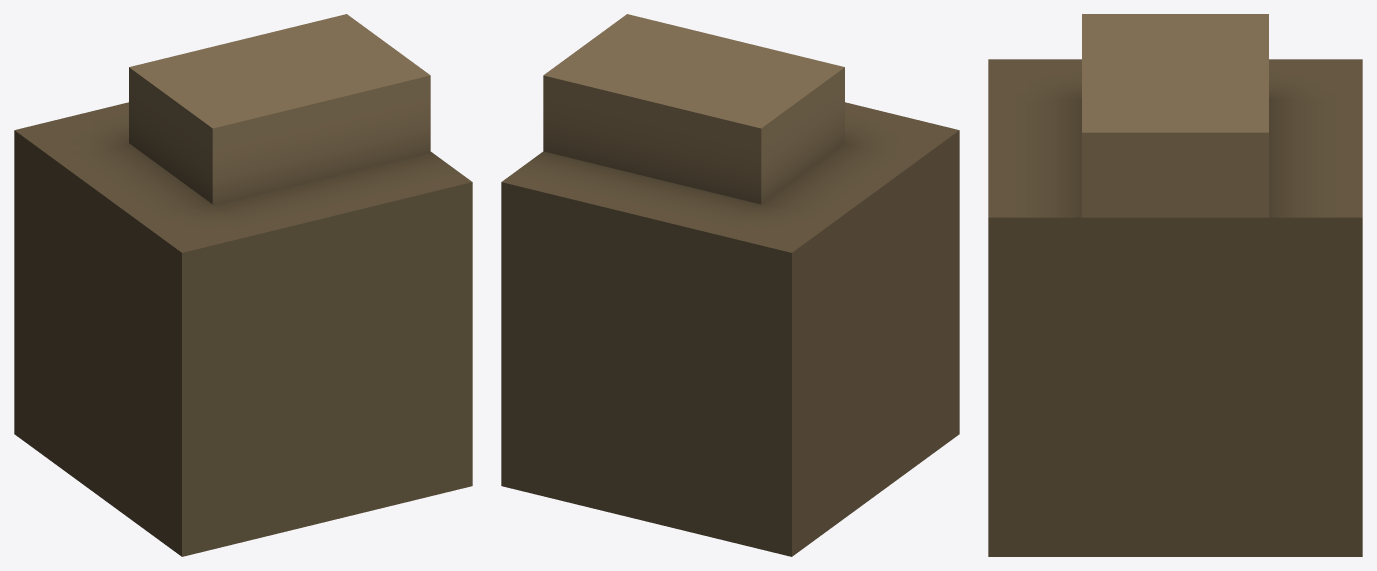
File: cm_chunk_e.glb
3 views of the same model, side by side, from view 1: azimuth 30°, elevation 25°; view 2: azimuth 150°, elevation 25°; view 3: azimuth 270°, elevation 25° (orthographic). The views are drawn at different scales.
Visible parts, largest first — view 1: cm_chunk_e_body; view 2: cm_chunk_e_body; view 3: cm_chunk_e_body.
Boxes of the visible parts, x1=… form: cm_chunk_e_body: x1=14, y1=14, x2=472, y2=556; cm_chunk_e_body: x1=501, y1=14, x2=959, y2=556; cm_chunk_e_body: x1=988, y1=14, x2=1362, y2=556.
Bounding box in the file's own units: 0.25 × 0.3125 × 0.25.
1 material, 1 textured.
